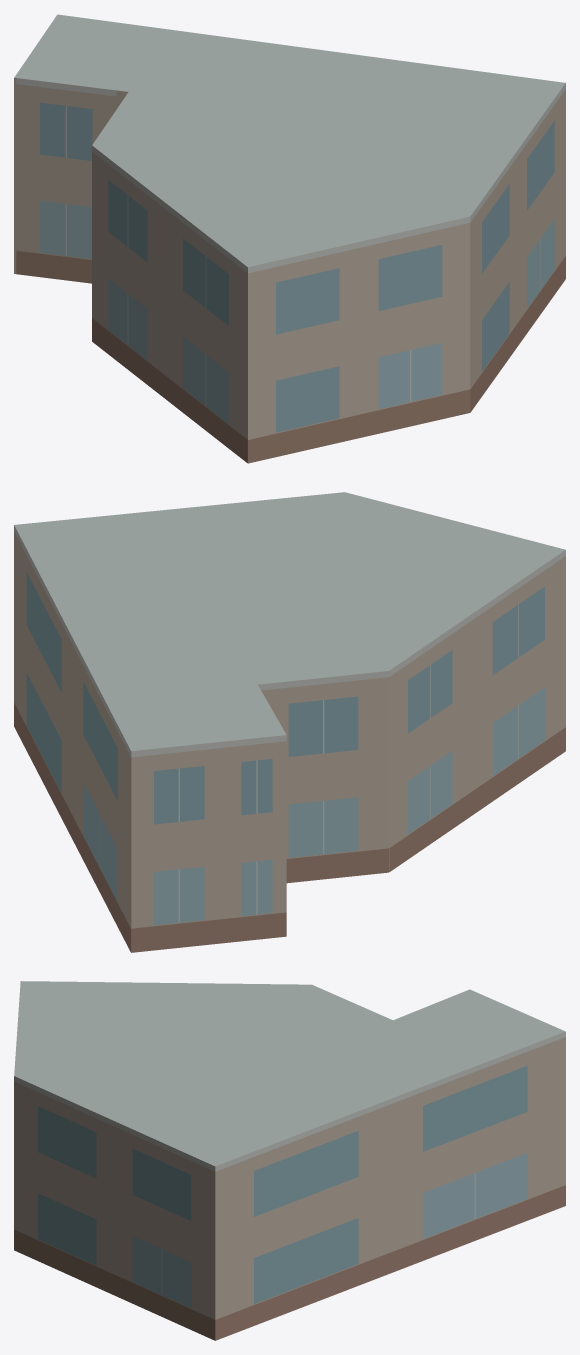
Rendered from survey-upis-33030782.glb.
3 views of the same model, one above another, from view 1: azimuth 30°, elevation 25°; view 2: azimuth 150°, elevation 25°; view 3: azimuth 270°, elevation 25° (orthographic). The views are drawn at different scales.
Visible parts, largest first — view 1: survey-upis-33030782.tmp; view 2: survey-upis-33030782.tmp; view 3: survey-upis-33030782.tmp.
Boxes of the visible parts, x1,y1,x2,y2 form: survey-upis-33030782.tmp: (14,14,565,463); survey-upis-33030782.tmp: (14,492,565,952); survey-upis-33030782.tmp: (14,981,565,1340).
Bounding box in the file's own units: 18.02 × 7.9 × 22.67.
